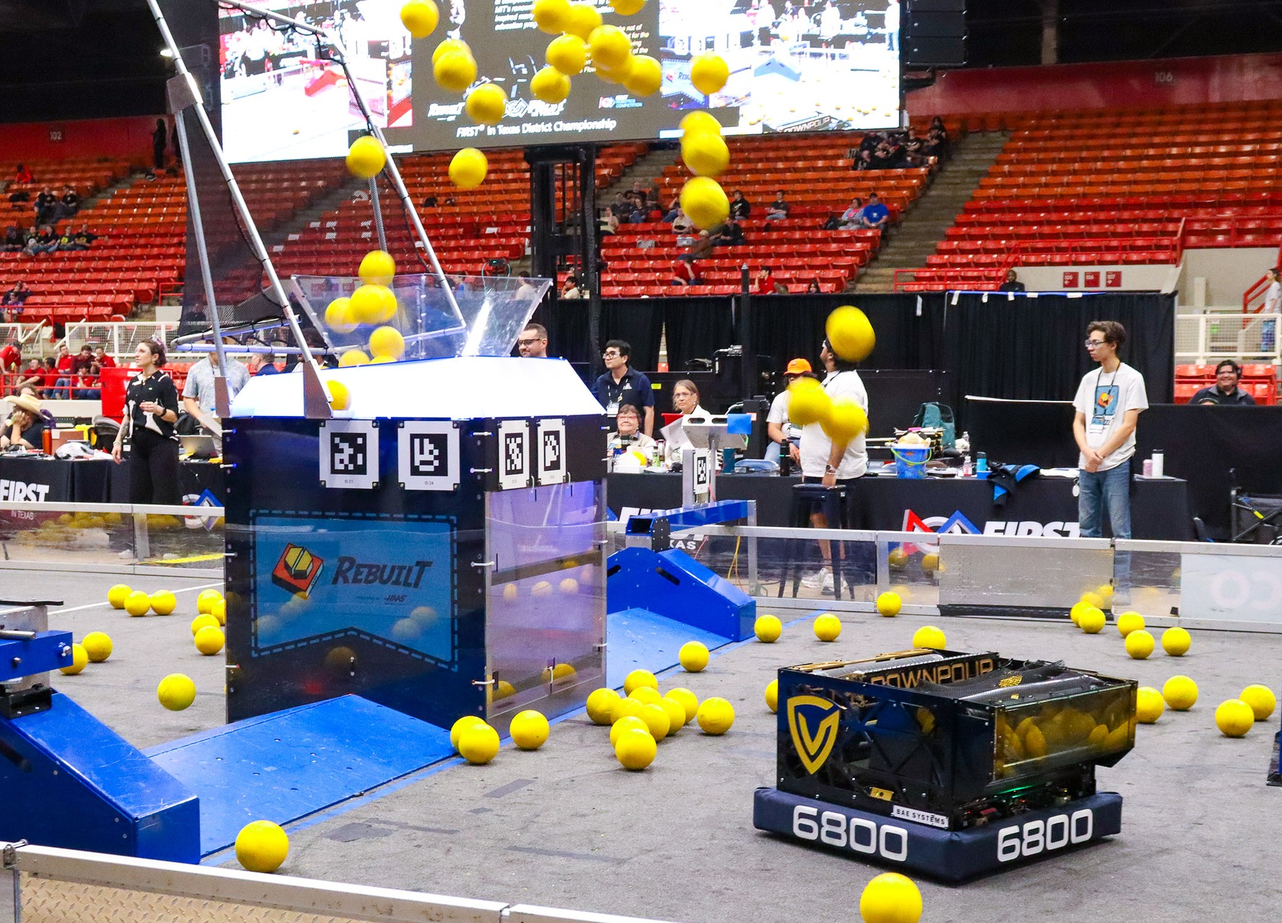frc-robot: (746, 611, 1147, 910)
